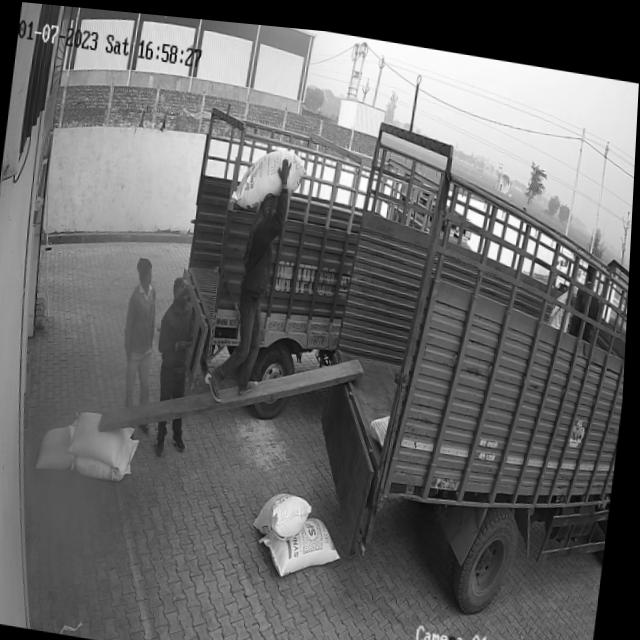sack: (261, 501, 349, 577), (231, 139, 309, 213), (68, 405, 139, 467), (75, 427, 143, 480), (258, 481, 317, 539), (40, 417, 83, 473)
